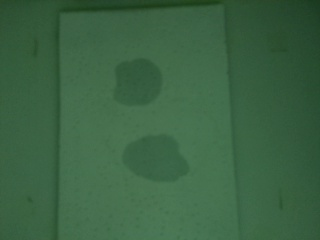Water_detected: (127, 147, 178, 180), (123, 69, 163, 103)
